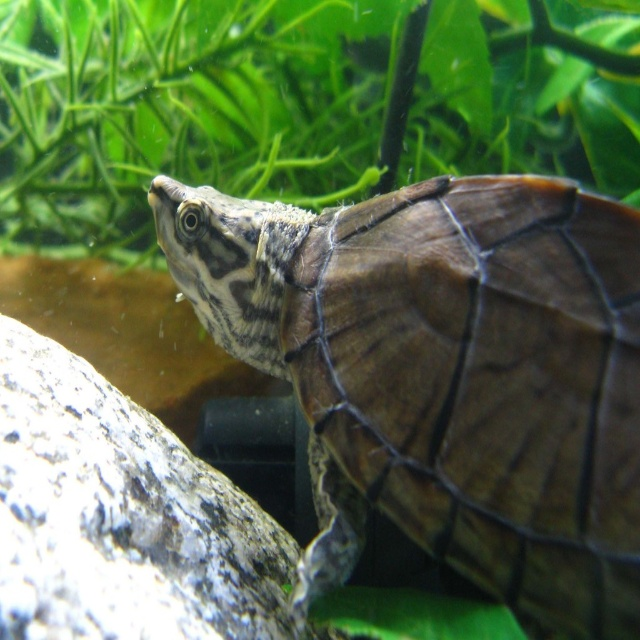Sea turtle: (143, 170, 640, 639)
